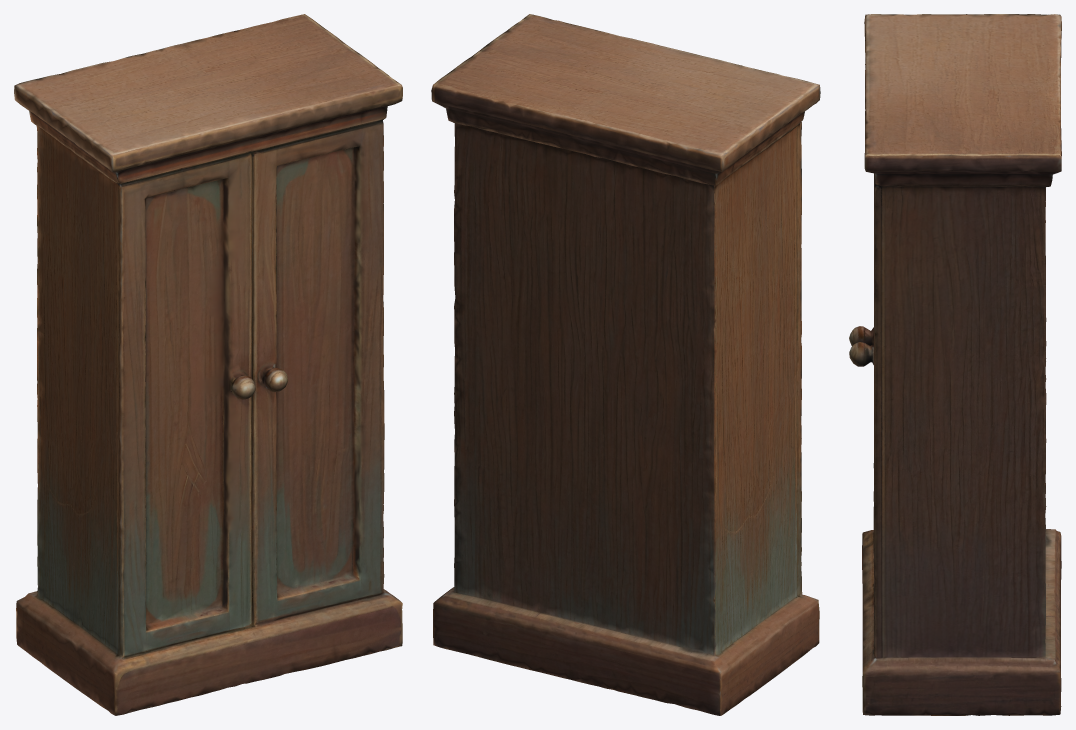
The model's file is Furn_Wardrobe.fbx.
3 views of the same model, side by side, from view 1: azimuth 30°, elevation 25°; view 2: azimuth 150°, elevation 25°; view 3: azimuth 270°, elevation 25° (orthographic).
Visible parts, largest first — view 1: texture_mapping; view 2: texture_mapping; view 3: texture_mapping.
Boxes of the visible parts, bbox=[...] form: texture_mapping: bbox=[14, 14, 402, 715]; texture_mapping: bbox=[431, 14, 820, 715]; texture_mapping: bbox=[849, 14, 1061, 715].
Bounding box in the file's own units: 0.5391 × 0.341 × 0.9932.
Materials: 1 (1 with a texture image).
